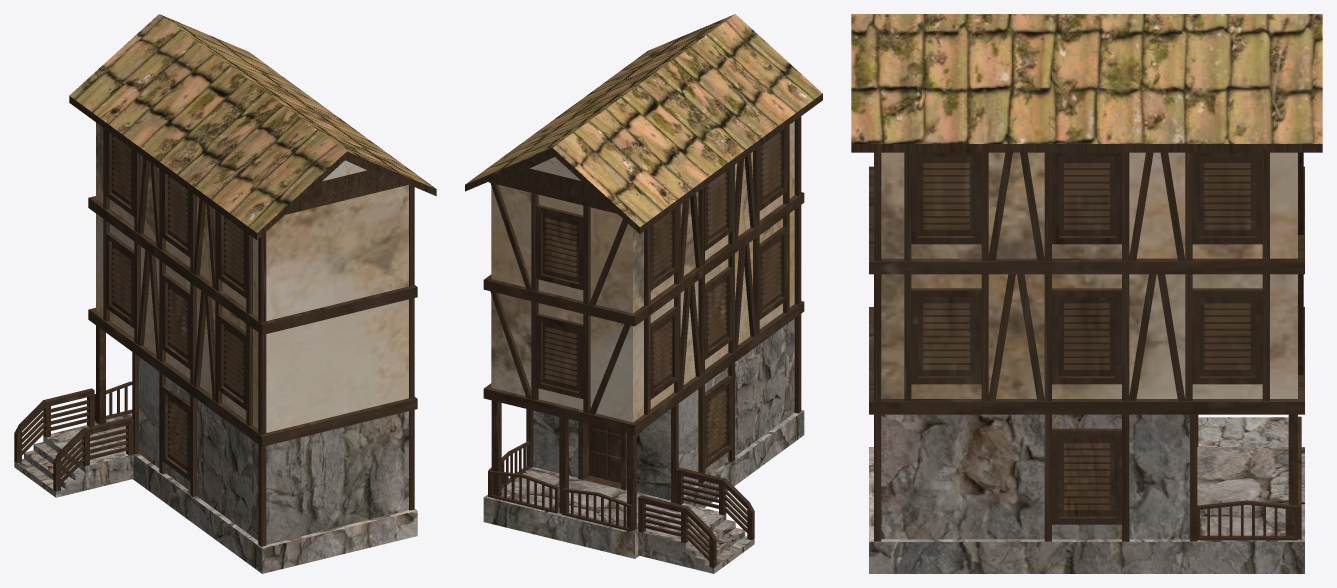
File: medieval.glb
3 renders of one model, left to right at view 1: azimuth 30°, elevation 25°; view 2: azimuth 150°, elevation 25°; view 3: azimuth 270°, elevation 25°, orthographic. The views are drawn at different scales.
Visible parts, largest first — view 1: Floors, Roof, 1Floor, Base_wood, Stairs, Stair_bases; view 2: Floors, Roof, 1Floor, Base_wood, Stairs, Stair_bases; view 3: Floors, Roof, 1Floor, Base_wood, Stairs, Stair_bases.
Part boxes in pixels (x1,y1,x2,y2): Floors: (88, 122, 417, 446); Roof: (69, 14, 436, 239); 1Floor: (94, 325, 417, 573); Base_wood: (103, 128, 414, 546); Stairs: (14, 388, 133, 497); Stair_bases: (94, 381, 132, 420); Floors: (483, 121, 804, 435); Roof: (465, 14, 822, 233); 1Floor: (483, 319, 804, 558); Base_wood: (490, 116, 801, 503); Stairs: (638, 467, 754, 573); Stair_bases: (488, 441, 632, 531); Floors: (869, 152, 1304, 414); Roof: (851, 14, 1322, 152); 1Floor: (869, 414, 1304, 573); Base_wood: (874, 152, 1303, 541); Stairs: (1197, 414, 1288, 446); Stair_bases: (1197, 416, 1301, 540).
Size of the model in its own units: 5.05 by 8.04 by 6.7.
Materials: 4 (4 with a texture image).
